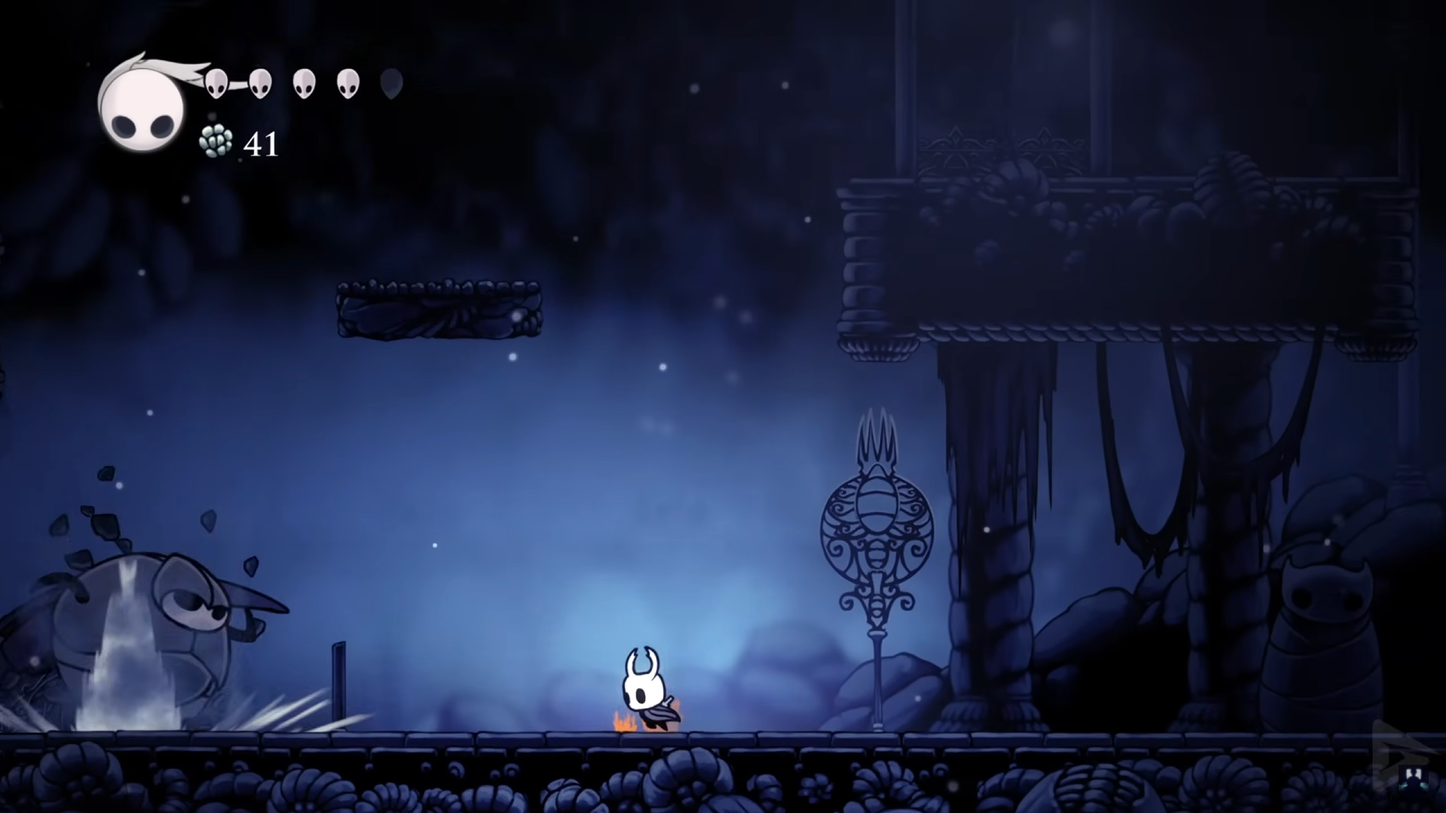HK: (616, 646, 682, 733)
